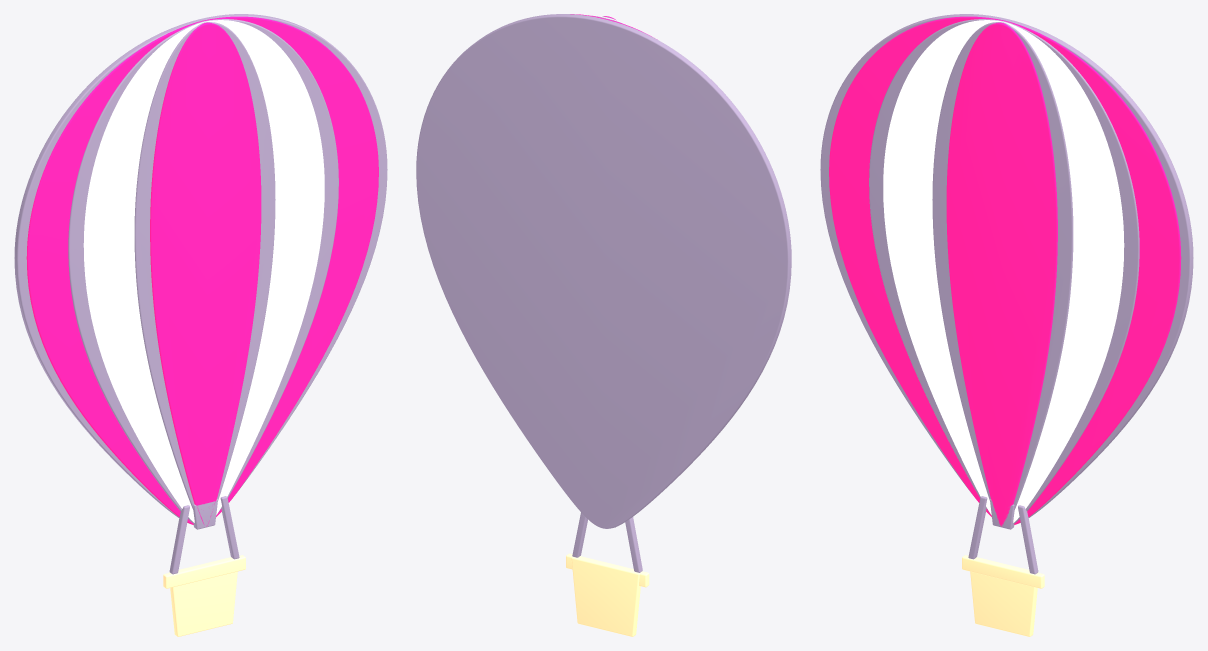
The model's file is airBalloon3.glb.
3 views of the same model, side by side, from view 1: azimuth 30°, elevation 25°; view 2: azimuth 150°, elevation 25°; view 3: azimuth 330°, elevation 25° (orthographic).
Parts seen in each view (by area): view 1: Balloon_06_RedInner, Balloon_04_PinkMid, Balloon_02_RedOuter, Balloon_03_Line1, Balloon_05_Line2, Balloon_01_Outline, Balloon_09_Basket, Balloon_10_Rim, Balloon_08_RopeL, Balloon_07_Burner, Balloon_08_RopeR; view 2: Balloon_01_Outline, Balloon_09_Basket; view 3: Balloon_06_RedInner, Balloon_04_PinkMid, Balloon_02_RedOuter, Balloon_03_Line1, Balloon_05_Line2, Balloon_01_Outline, Balloon_09_Basket, Balloon_10_Rim, Balloon_08_RopeR, Balloon_08_RopeL.
Boxes of the visible parts, <box> form: Balloon_06_RedInner: <box>150,22,261,526</box>; Balloon_04_PinkMid: <box>83,20,324,522</box>; Balloon_02_RedOuter: <box>26,16,378,524</box>; Balloon_03_Line1: <box>68,19,338,523</box>; Balloon_05_Line2: <box>134,22,275,509</box>; Balloon_01_Outline: <box>14,14,387,523</box>; Balloon_09_Basket: <box>169,557,237,636</box>; Balloon_10_Rim: <box>163,555,245,588</box>; Balloon_08_RopeL: <box>169,505,189,574</box>; Balloon_07_Burner: <box>193,499,217,529</box>; Balloon_08_RopeR: <box>220,496,239,559</box>; Balloon_01_Outline: <box>416,14,791,528</box>; Balloon_09_Basket: <box>571,557,640,636</box>; Balloon_06_RedInner: <box>946,22,1057,526</box>; Balloon_04_PinkMid: <box>883,20,1124,522</box>; Balloon_02_RedOuter: <box>829,16,1181,524</box>; Balloon_03_Line1: <box>869,19,1139,523</box>; Balloon_05_Line2: <box>932,22,1073,509</box>; Balloon_01_Outline: <box>820,14,1193,523</box>; Balloon_09_Basket: <box>970,557,1038,636</box>; Balloon_10_Rim: <box>962,555,1044,588</box>; Balloon_08_RopeR: <box>1018,505,1038,574</box>; Balloon_08_RopeL: <box>968,496,987,559</box>.
Bounding box in the file's own units: 6 × 9.4 × 0.2.
